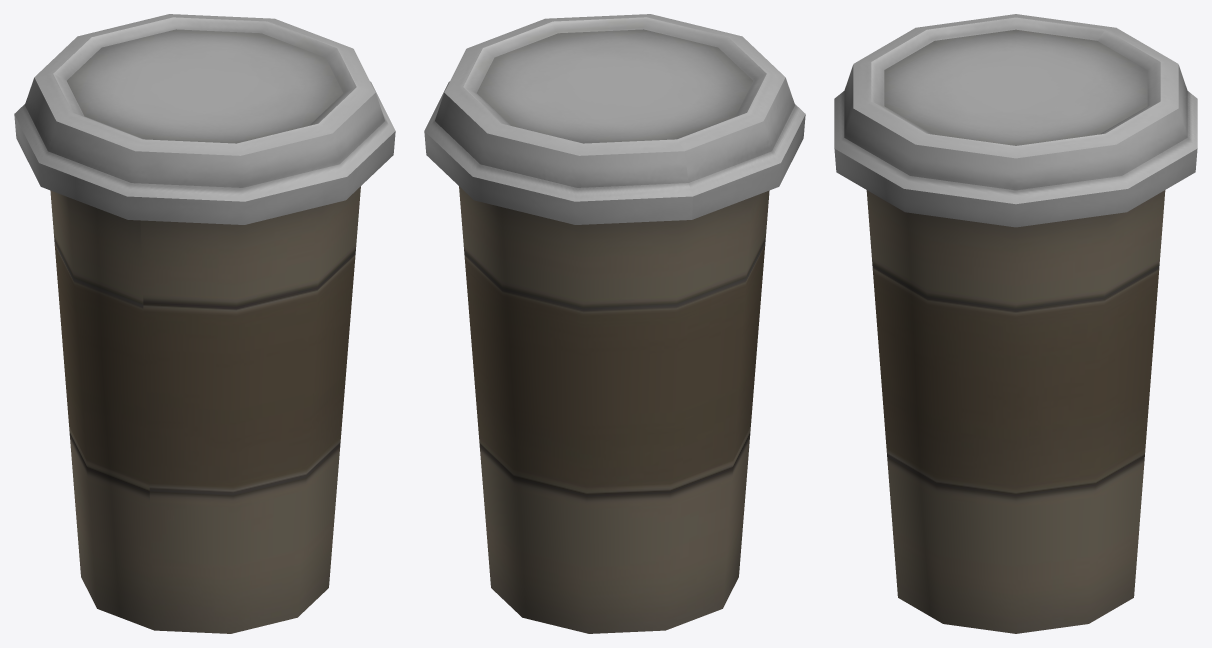
File: CoffeePaperCup.FBX
3 views of the same model, side by side, from view 1: azimuth 30°, elevation 25°; view 2: azimuth 150°, elevation 25°; view 3: azimuth 270°, elevation 25° (orthographic).
Parts seen in each view (by area): view 1: Cylinder008; view 2: Cylinder008; view 3: Cylinder008.
Boxes of the visible parts, <box> form: Cylinder008: <box>14,14,395,633</box>; Cylinder008: <box>424,14,805,633</box>; Cylinder008: <box>834,14,1197,633</box>.
Size of the model in its own units: 37.28 by 53.84 by 35.45.
Materials: 1 (1 with a texture image).
